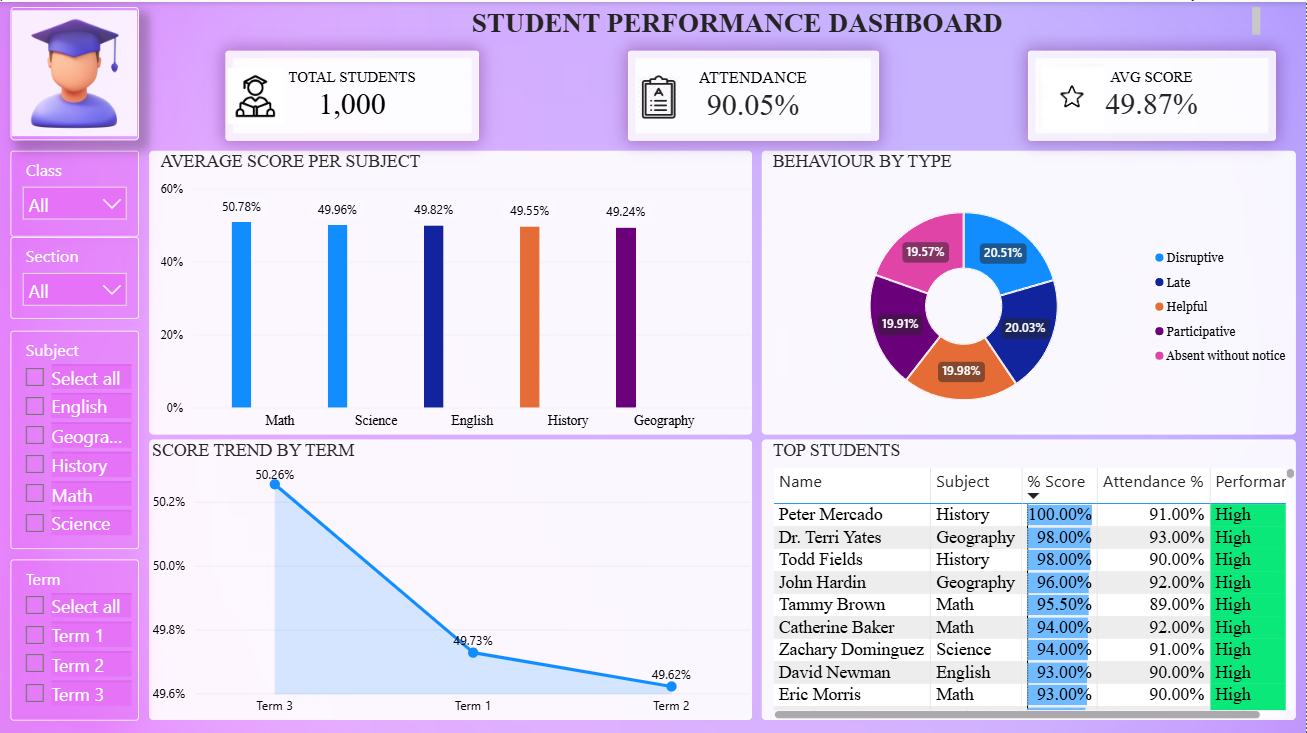

The page's visual inventory and layout, read from the dashboard file:
{"tool":"powerbi","page":{"name":"Dashboard","canvas":[1280,720],"ordinal":0},"visuals":[{"type":"lineChart","title":"SCORE TREND BY TERM","fields":{"Category":["Scores.Term"],"Y":["Measures (2).% Score"]},"box":[157.3,417.3,616,289.3],"z":0},{"type":"clusteredColumnChart","title":"AVERAGE SCORE PER SUBJECT","fields":{"Category":["Scores.Subject"],"Y":["Measures (2).Average Score per Subject"],"Series":["Scores.Subject"]},"box":[157.3,121.3,616,277.3],"z":1000},{"type":"donutChart","title":"BEHAVIOUR BY TYPE","fields":{"Category":["Behavior.BehaviorType"],"Y":["Measures (2).Behavior Count per Type"]},"box":[745.7,119.8,523.5,282.7],"z":2000},{"type":"tableEx","title":"TOP STUDENTS","fields":{"Values":["Students.Name","Scores.Subject","Measures (2).% Score","Measures (2).Attendance %","Measures (2).Performance Category"]},"box":[722.4,402.9,547.1,300.4],"z":3000},{"type":"cardVisual","fields":{"Data":["Measures (2).Total Students"]},"box":[354.7,0,193.3,88],"z":4000},{"type":"cardVisual","fields":{"Data":["Measures (2).Attendance %"]},"box":[585.3,0,193.3,88],"z":5000},{"type":"cardVisual","fields":{"Data":["Measures (2).Average Score per Subject"]},"box":[816,1.3,193.3,88],"z":6000},{"type":"textbox","box":[11.1,28.4,343.2,32.1],"z":7000},{"type":"slicer","fields":{"Values":["Students.Class"]},"box":[0,103.8,125.6,83.3],"z":8000},{"type":"slicer","fields":{"Values":["Students.Section"]},"box":[0,208.1,125.6,82.1],"z":9000},{"type":"slicer","fields":{"Values":["Scores.Subject"]},"box":[0,311.1,125.3,213.3],"z":10000},{"type":"slicer","fields":{"Values":["Scores.Term"]},"box":[0,545.3,125.3,157.3],"z":11000},{"type":"textbox","box":[1040.7,28.4,228.4,44.4],"z":12000}]}

Visuals, with their boxes in screenshot pixels (x1, y1, x2, y2), scaled from the page's 1280x720 canvas onto the 1307x733 screenshot:
"SCORE TREND BY TERM" lineChart: {"left": 161, "top": 425, "right": 790, "bottom": 719}
"AVERAGE SCORE PER SUBJECT" clusteredColumnChart: {"left": 161, "top": 123, "right": 790, "bottom": 406}
"BEHAVIOUR BY TYPE" donutChart: {"left": 761, "top": 122, "right": 1296, "bottom": 410}
"TOP STUDENTS" tableEx: {"left": 738, "top": 410, "right": 1296, "bottom": 716}
cardVisual - Measures (2).Total Students: {"left": 362, "top": 0, "right": 560, "bottom": 90}
cardVisual - Measures (2).Attendance %: {"left": 598, "top": 0, "right": 795, "bottom": 90}
cardVisual - Measures (2).Average Score per Subject: {"left": 833, "top": 1, "right": 1031, "bottom": 91}
textbox: {"left": 11, "top": 29, "right": 362, "bottom": 62}
slicer - Students.Class: {"left": 0, "top": 106, "right": 128, "bottom": 190}
slicer - Students.Section: {"left": 0, "top": 212, "right": 128, "bottom": 295}
slicer - Scores.Subject: {"left": 0, "top": 317, "right": 128, "bottom": 534}
slicer - Scores.Term: {"left": 0, "top": 555, "right": 128, "bottom": 715}
textbox: {"left": 1063, "top": 29, "right": 1296, "bottom": 74}
